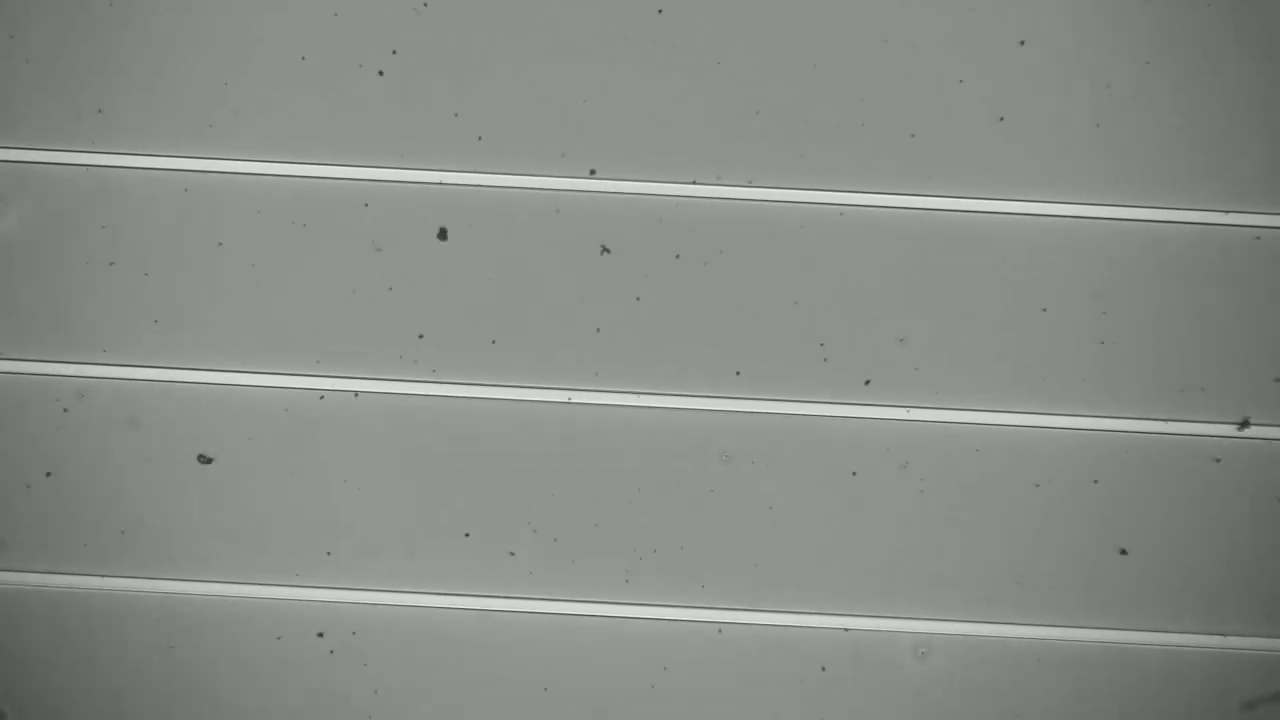stains_enbedded: (1224, 410, 1257, 445)
